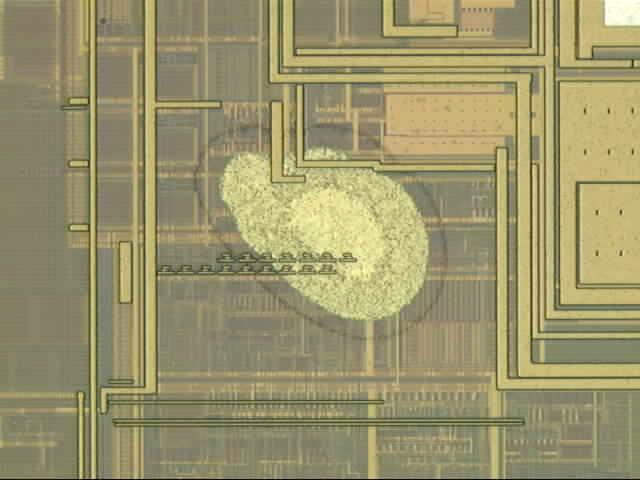BLOCK ETCH: (185, 110, 463, 352)
